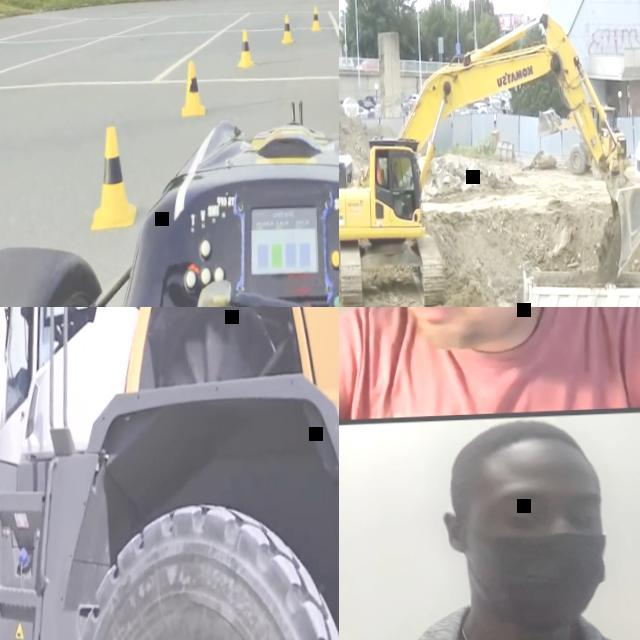Weapon: (358, 421, 640, 640)
